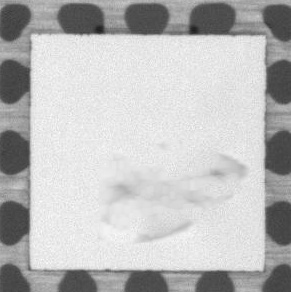DIE_INK: (91, 150, 247, 247)
